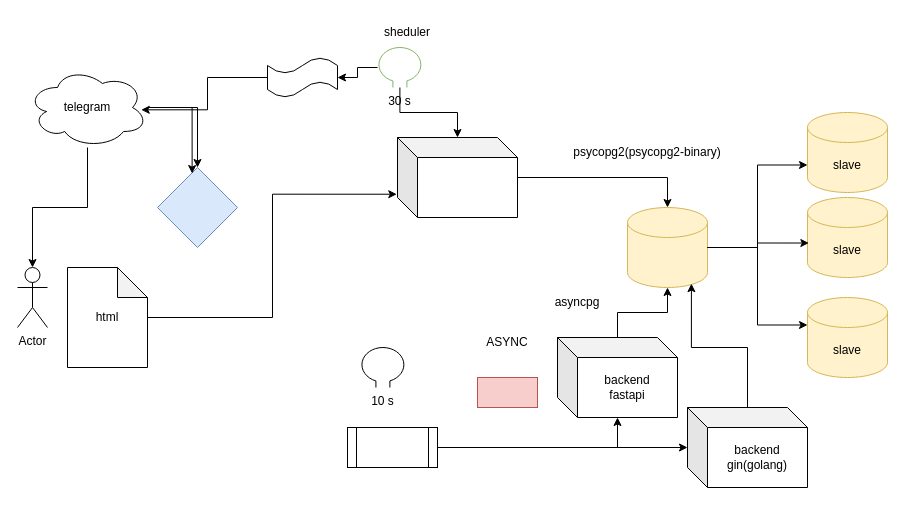
Image size: 905x505. Some labels were removed from this diagram. Each missing label, with the centre of its shape:
"backend django" goes at (457,177).
"bot" goes at (197,207).
"master postgresql" goes at (667,247).
"RPS" goes at (507,392).
"часы" goes at (392,447).
